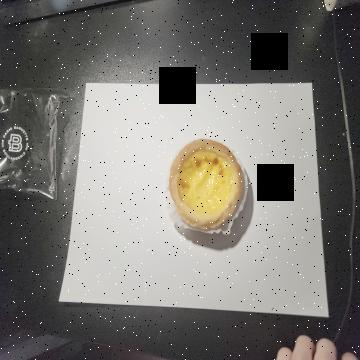EggTart: (168, 138, 244, 230)
